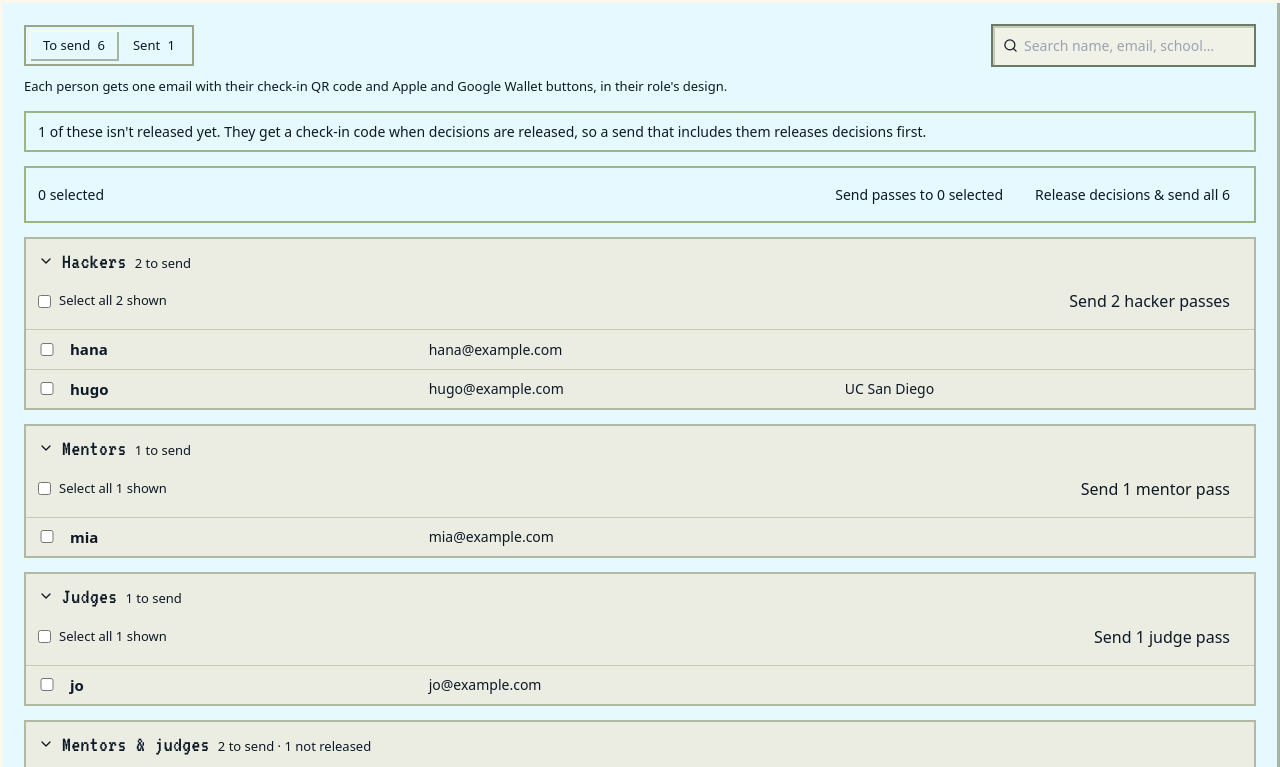
Test: PassesPage › filters by name, email and school
The image size is (1280, 767).
Type "san diego" into the search field named "Search passes" at x=1134, y=46, box [1024,26,1244,65]
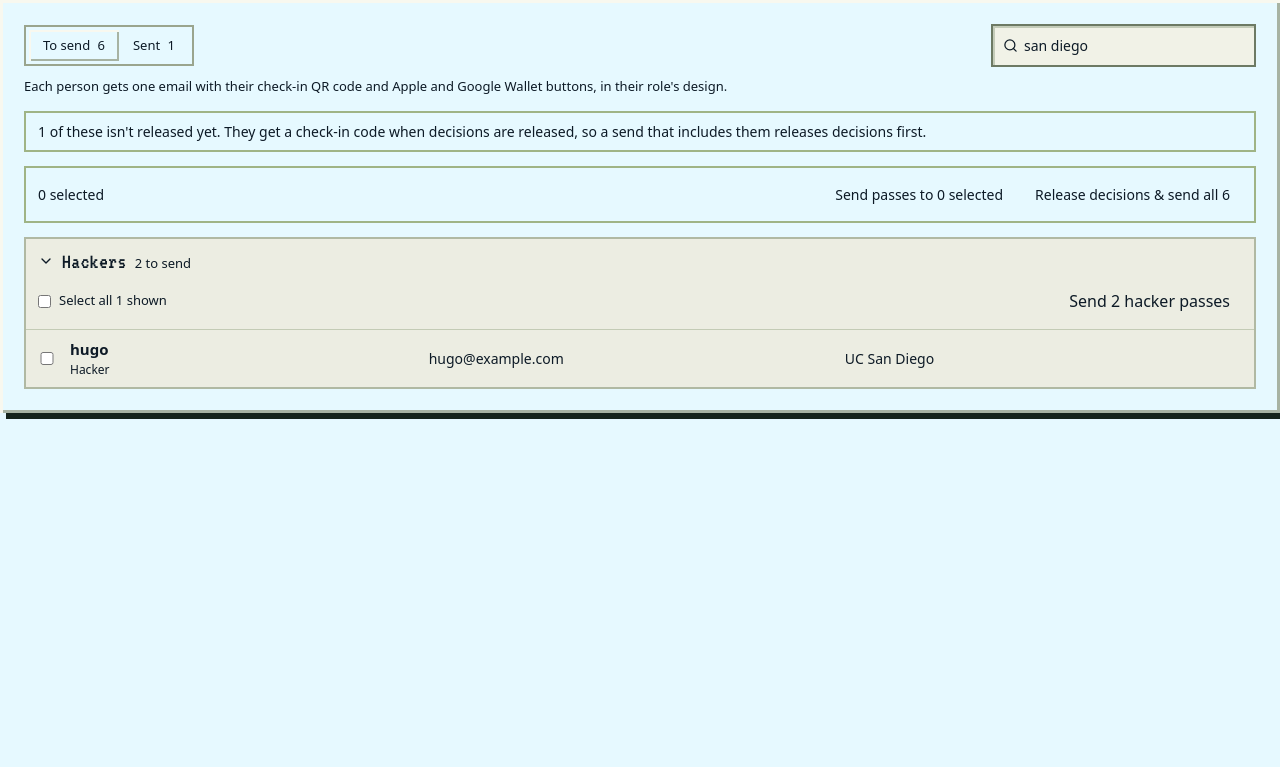
Replace the text in the search field named "Search passes" with "MIA@EXAMPLE" at x=1134, y=46, box [1024,26,1244,65]
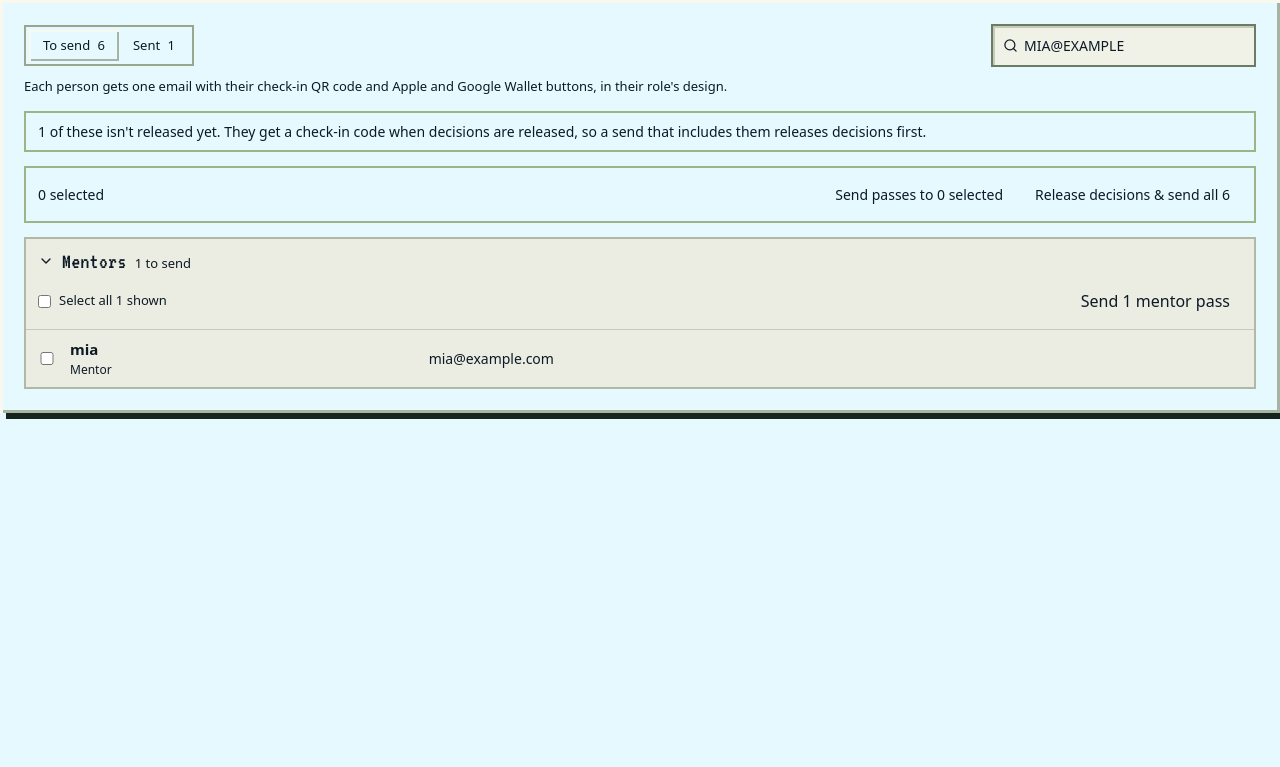
Replace the text in the search field named "Search passes" with "lee" at x=1134, y=46, box [1024,26,1244,65]
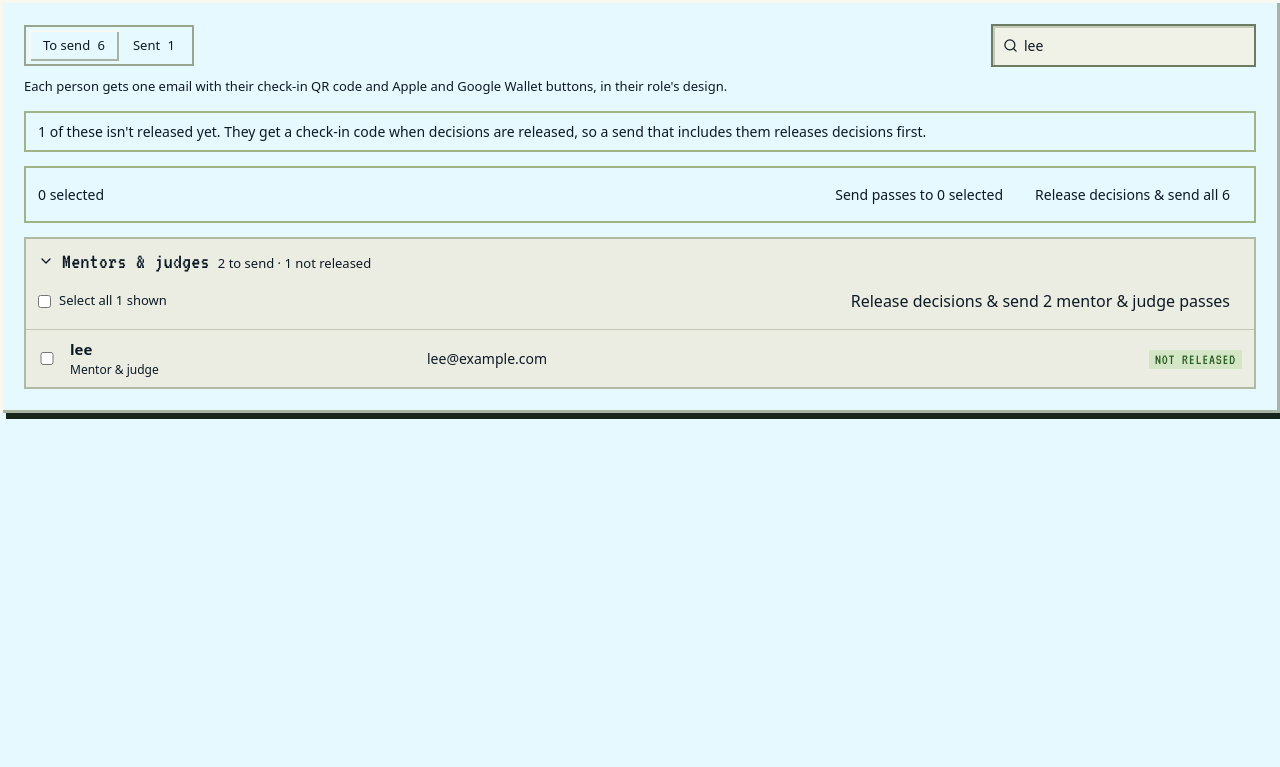
Replace the text in the search field named "Search passes" with "nobody" at x=1134, y=46, box [1024,26,1244,65]
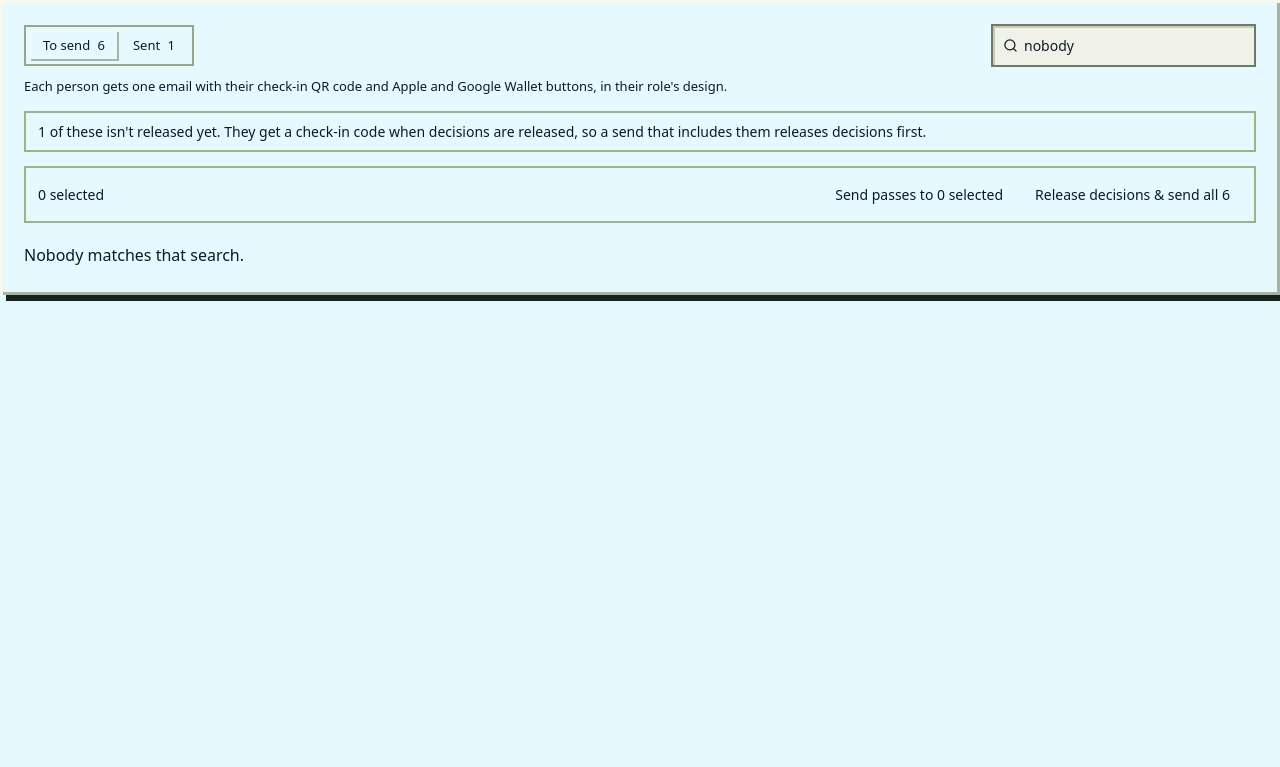
Expected: the text "Nobody matches that search." is shown, [24,244,244,266]
